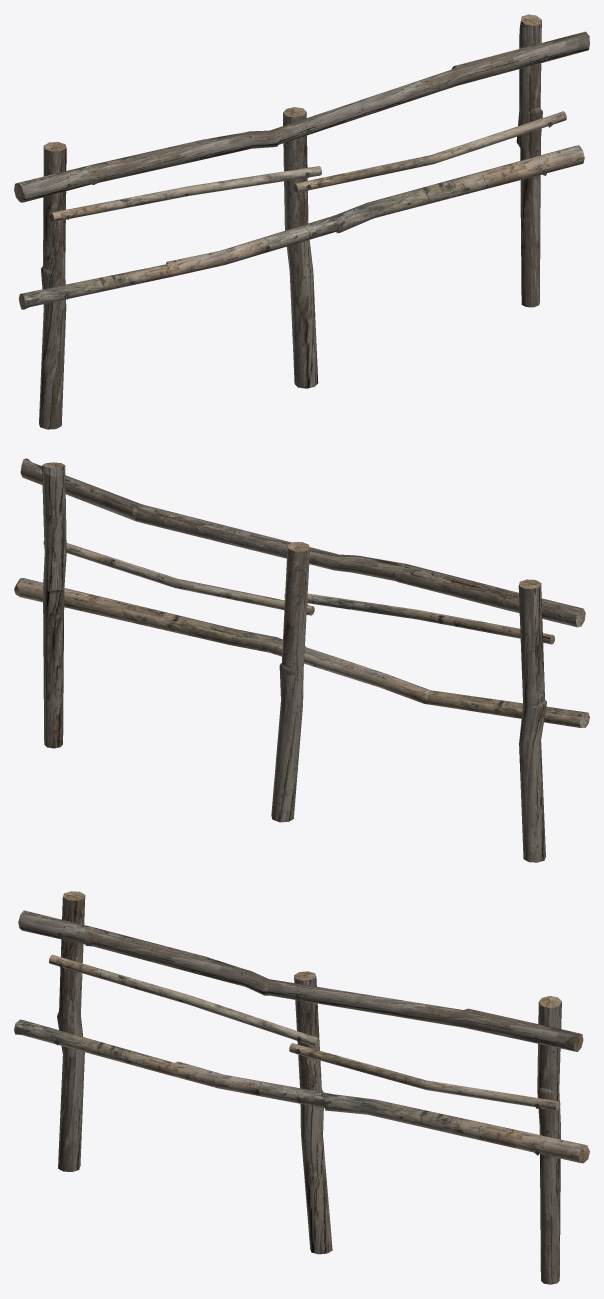
The model's file is Fence2B.fbx.
3 views of the same model, one above another, from view 1: azimuth 30°, elevation 25°; view 2: azimuth 150°, elevation 25°; view 3: azimuth 330°, elevation 25° (orthographic).
Visible parts, largest first — view 1: polySurface210; view 2: polySurface210; view 3: polySurface210.
Part boxes in pixels (bbox=[...]): polySurface210: bbox=[14, 14, 589, 429]; polySurface210: bbox=[14, 458, 589, 862]; polySurface210: bbox=[14, 891, 589, 1284].
Size of the model in its own units: 3.12 by 1.61 by 0.2563.
